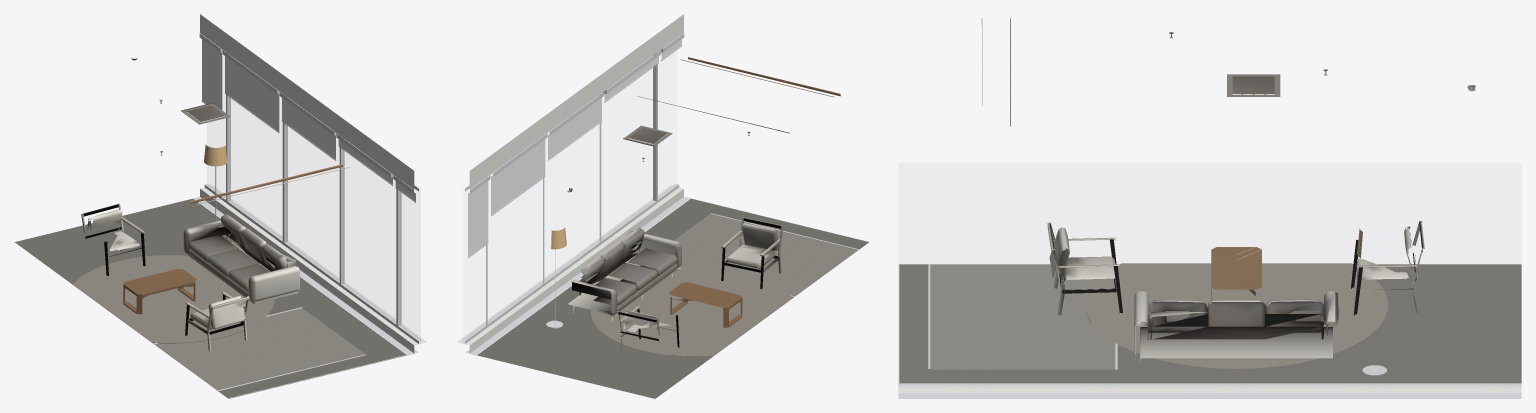
File: z-final-lite.light.0a631fd0.glb
3 views of the same model, side by side, from view 1: azimuth 30°, elevation 25°; view 2: azimuth 150°, elevation 25°; view 3: azimuth 270°, elevation 25° (orthographic). The views are drawn at different scales.
Visible parts, largest first — view 1: final_carpet, final_satin, final_fx, final_plaster, final_modern_coffee_table_01, final_emit, final_oak, final_metal_lit; view 2: final_carpet, final_satin, final_fx, final_plaster, final_modern_coffee_table_01, final_oak, final_emit, final_metal_lit; view 3: final_carpet, final_fx, final_satin, final_plaster, final_modern_coffee_table_01.
Part boxes in pixels (box(x1,y1,x2,y2)): final_carpet: box(15, 198, 413, 398); final_satin: box(153, 33, 422, 391); final_fx: box(81, 57, 299, 350); final_plaster: box(200, 14, 426, 353); final_modern_coffee_table_01: box(123, 269, 196, 314); final_emit: box(196, 144, 350, 204); final_oak: box(190, 164, 342, 203); final_metal_lit: box(193, 198, 408, 398); final_carpet: box(470, 198, 868, 398); final_satin: box(461, 33, 858, 354); final_fx: box(567, 125, 783, 355); final_plaster: box(457, 14, 683, 353); final_modern_coffee_table_01: box(669, 282, 742, 327); final_oak: box(637, 57, 840, 133); final_emit: box(551, 59, 833, 249); final_metal_lit: box(476, 198, 868, 354); final_carpet: box(899, 263, 1521, 383); final_fx: box(1047, 32, 1475, 361); final_satin: box(898, 263, 1521, 398); final_plaster: box(898, 386, 1521, 393); final_modern_coffee_table_01: box(1211, 247, 1261, 300).
Size of the model in its own units: 3.75 by 3.3 by 7.
Materials: 9 (4 with a texture image).
